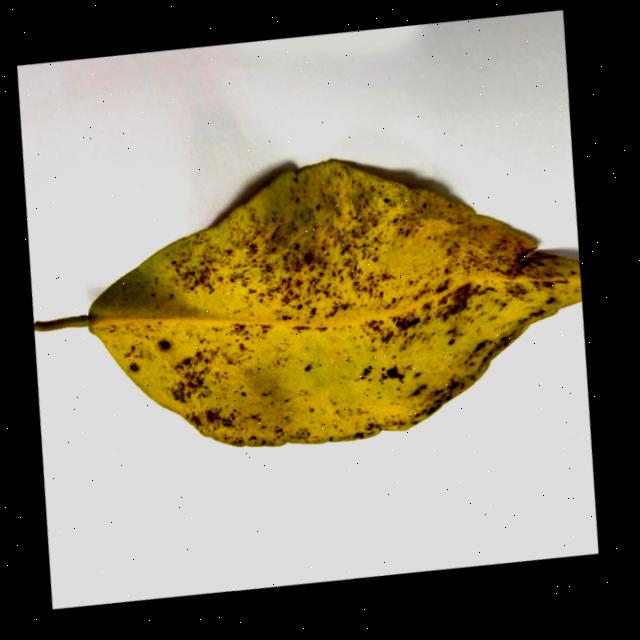melanose: (34, 161, 581, 447)
